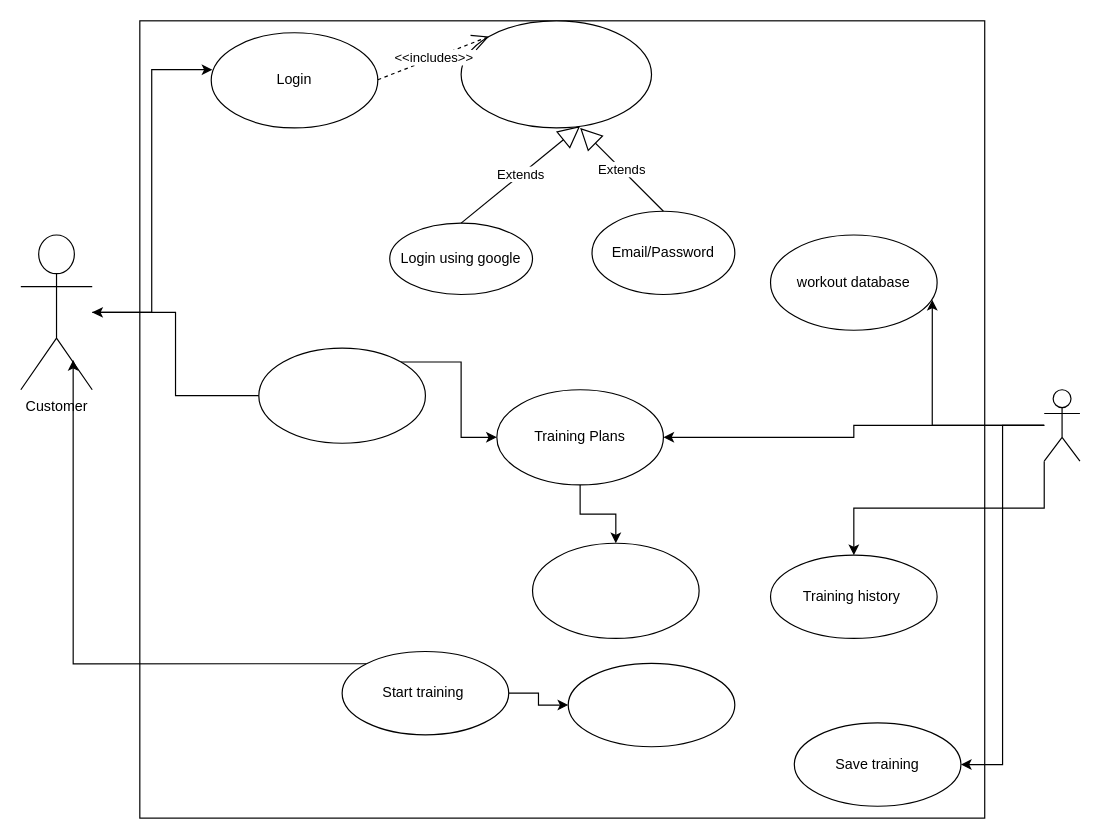
Image size: 1117x839. Some labels were removed from this diagram. The shapes that lost their labels are listed below. From the top down, each one's centre as x and y in pixels, then its label:
At point (556, 74): "Authorisation/Authentication".
At point (341, 395): "Training type".
At point (1061, 425): "App Admin".
At point (615, 590): "Training Schedule".
At point (651, 704): "Stop training".
